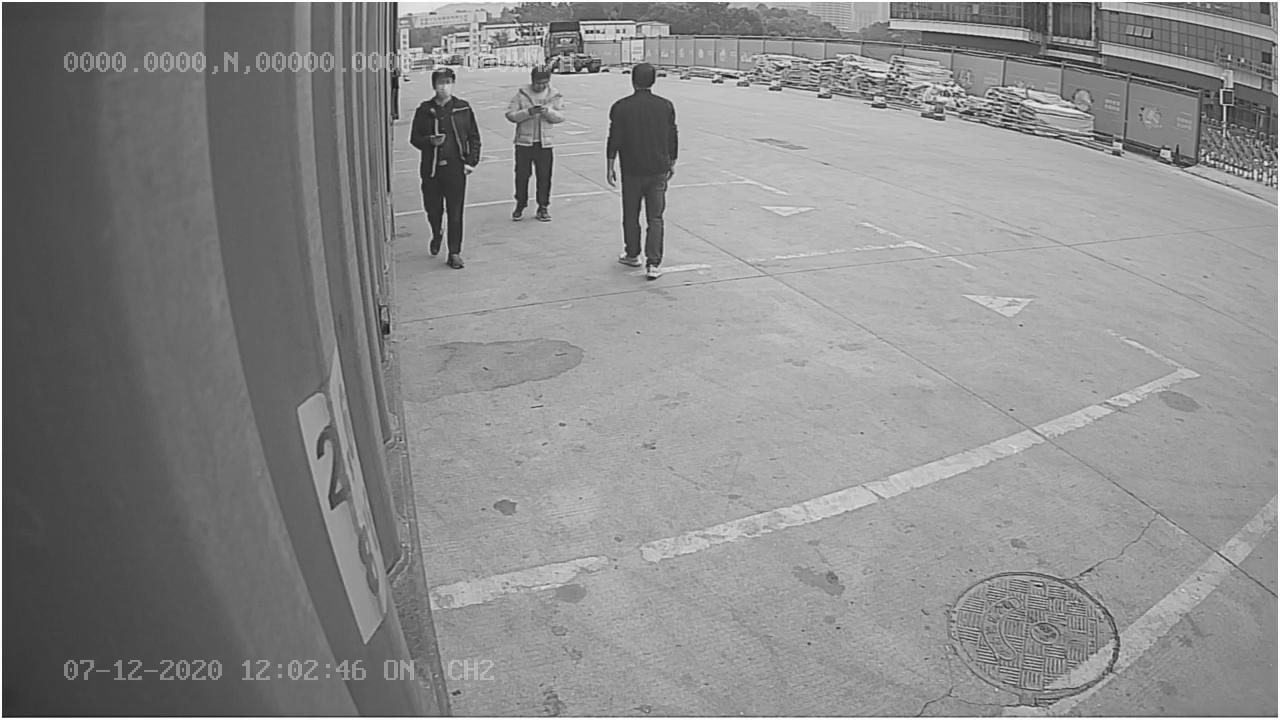person: (602, 63, 686, 284)
